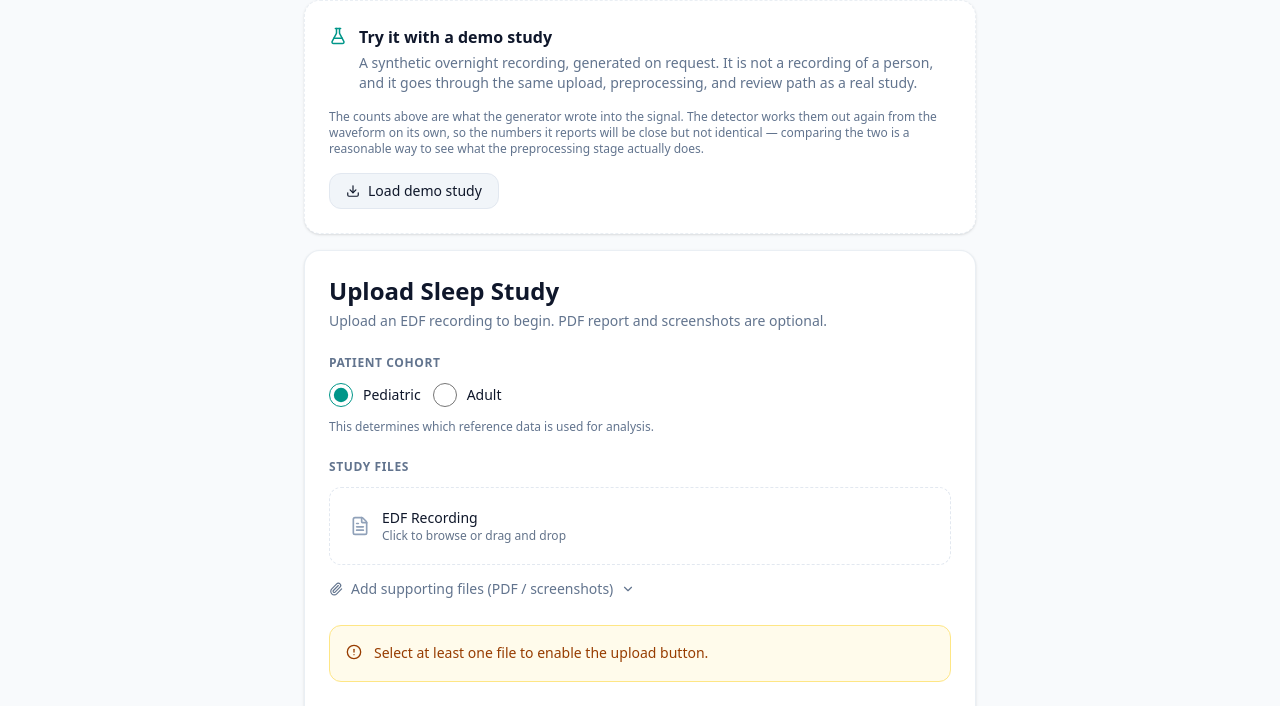
Test: <CaseUpload /> › loads the demo study into the form and switches the cohort to adult
Expected: the radio button labelled "Pediatric" is checked, x1=329 y1=383 x2=353 y2=407
Click the button "Load demo study" at (414, 191), box x1=329 y1=173 x2=499 y2=209
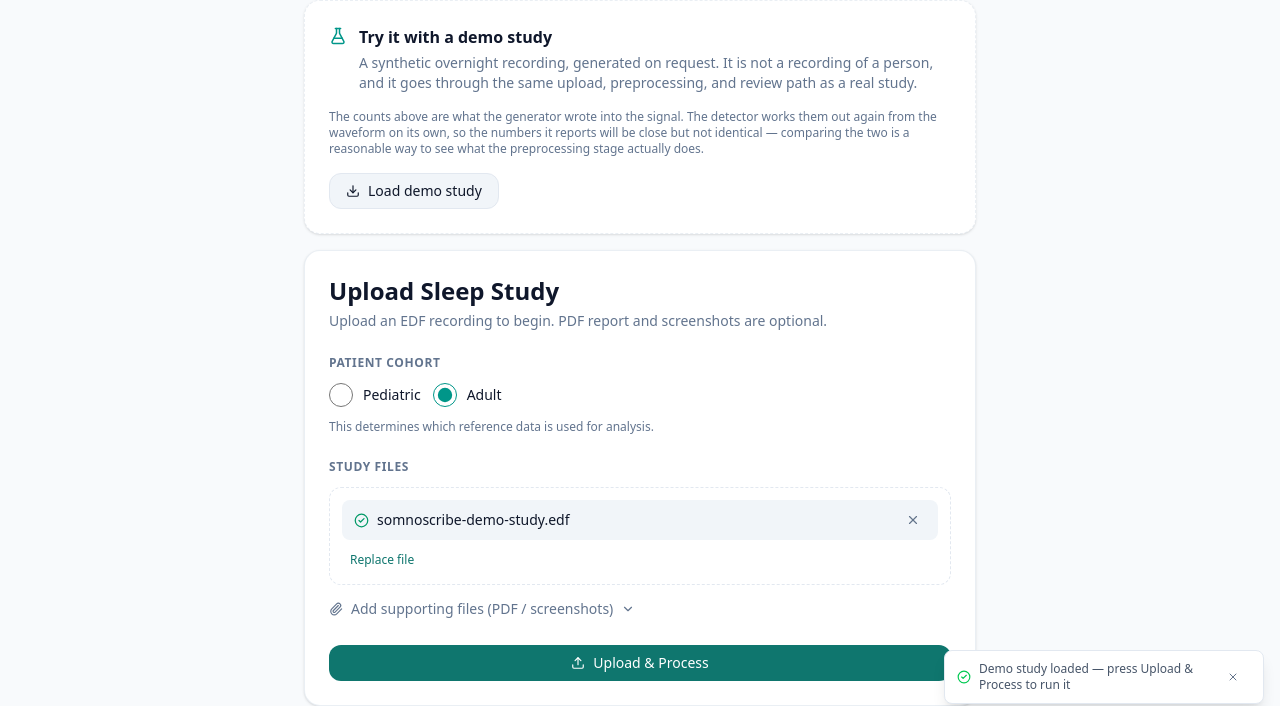
Now the text "somnoscribe-demo-study.edf" is shown, box x1=377 y1=510 x2=570 y2=529
Now the radio button labelled "Adult" is checked, box x1=433 y1=383 x2=457 y2=407
Now the button "Upload & Process" is enabled, box x1=329 y1=645 x2=951 y2=681
